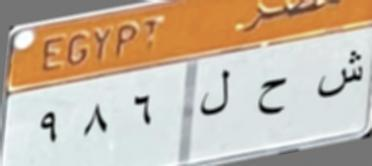6: (126, 93, 169, 128)
7aa: (252, 68, 294, 122)
9: (35, 102, 68, 148), (82, 99, 112, 142)
laam: (196, 64, 241, 120)
sheen: (313, 41, 366, 104)
